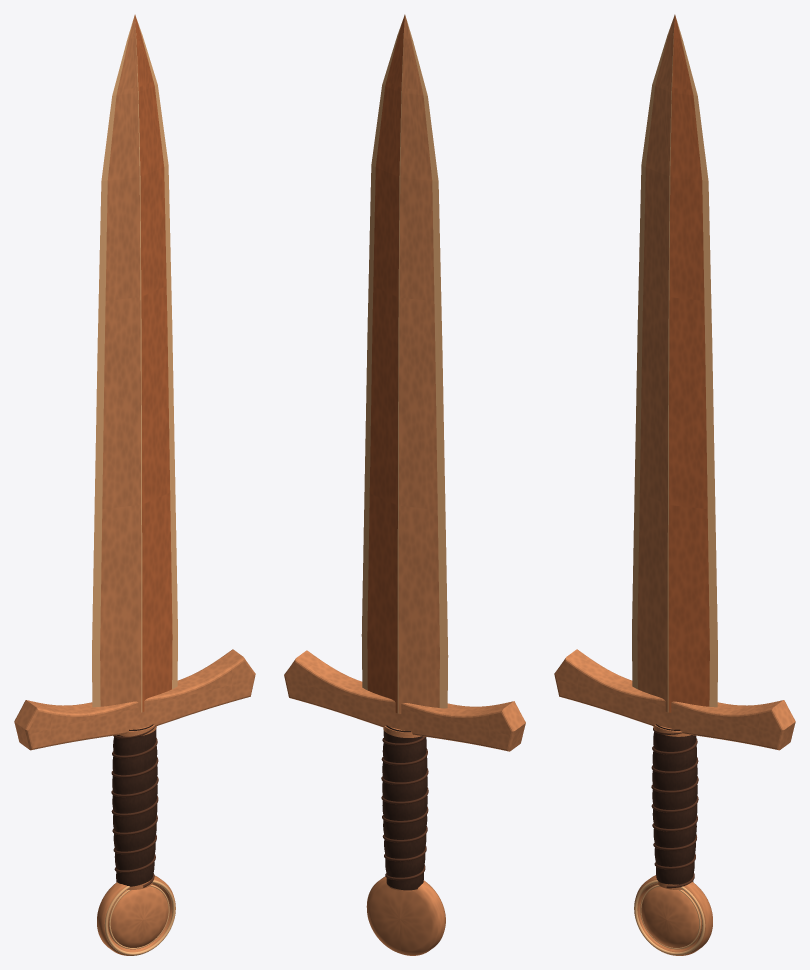
The model's file is grithe_sword.glb.
3 renders of one model, left to right at view 1: azimuth 30°, elevation 25°; view 2: azimuth 150°, elevation 25°; view 3: azimuth 330°, elevation 25°, orthographic.
Visible parts, largest first — view 1: polished-copper-broad-blade-faces, copper-forging-retained-on-secondary-facet, lightly-hammered-warm-copper, polished-copper-edge, dark-brown-leather, worn-leather-wrap-edge; view 2: polished-copper-broad-blade-faces, copper-forging-retained-on-secondary-facet, lightly-hammered-warm-copper, polished-copper-edge, dark-brown-leather, worn-leather-wrap-edge; view 3: copper-forging-retained-on-secondary-facet, polished-copper-broad-blade-faces, lightly-hammered-warm-copper, polished-copper-edge, dark-brown-leather, worn-leather-wrap-edge.
Part boxes in pixels (box(x1,y1,x2,y2)): polished-copper-broad-blade-faces: box(100, 15, 141, 712); copper-forging-retained-on-secondary-facet: box(135, 15, 172, 711); lightly-hammered-warm-copper: box(14, 649, 255, 955); polished-copper-edge: box(92, 16, 177, 955); dark-brown-leather: box(112, 724, 157, 886); worn-leather-wrap-edge: box(111, 726, 158, 887); polished-copper-broad-blade-faces: box(398, 15, 439, 713); copper-forging-retained-on-secondary-facet: box(367, 15, 404, 713); lightly-hammered-warm-copper: box(284, 650, 525, 955); polished-copper-edge: box(361, 16, 448, 899); dark-brown-leather: box(382, 725, 427, 890); worn-leather-wrap-edge: box(381, 736, 428, 880); copper-forging-retained-on-secondary-facet: box(668, 15, 709, 712); polished-copper-broad-blade-faces: box(637, 15, 674, 711); lightly-hammered-warm-copper: box(554, 649, 795, 955); polished-copper-edge: box(632, 16, 717, 955); dark-brown-leather: box(652, 724, 697, 884); worn-leather-wrap-edge: box(651, 728, 698, 888).
Size of the model in its own units: 0.3635 by 1.41 by 0.0559.
6 materials, 4 textured.
